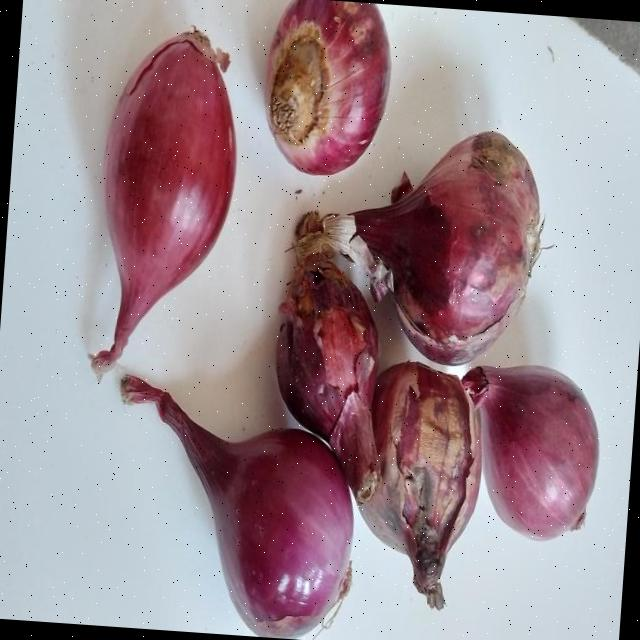Onion: (119, 376, 350, 639), (91, 32, 233, 374), (352, 131, 540, 366), (357, 362, 479, 610), (275, 254, 379, 502), (460, 365, 598, 541), (265, 0, 388, 175)
